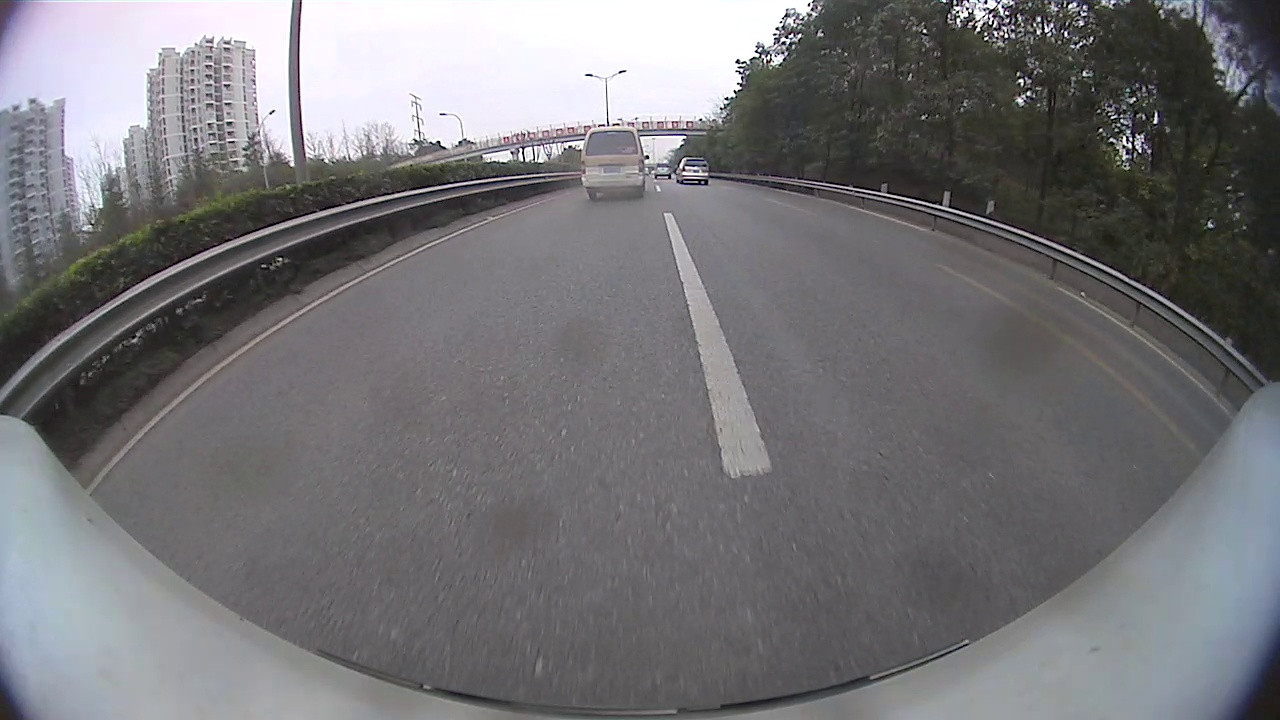car: (581, 127, 648, 200), (675, 156, 710, 185)
